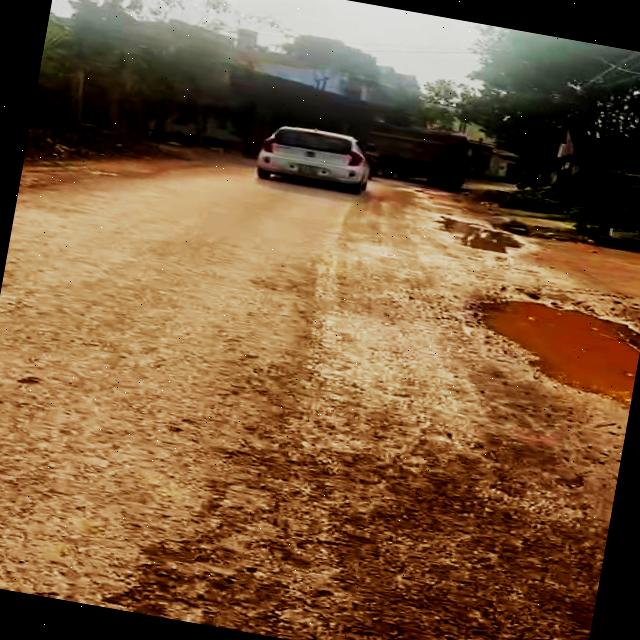pothole: (450, 282, 640, 409), (427, 214, 526, 258)
